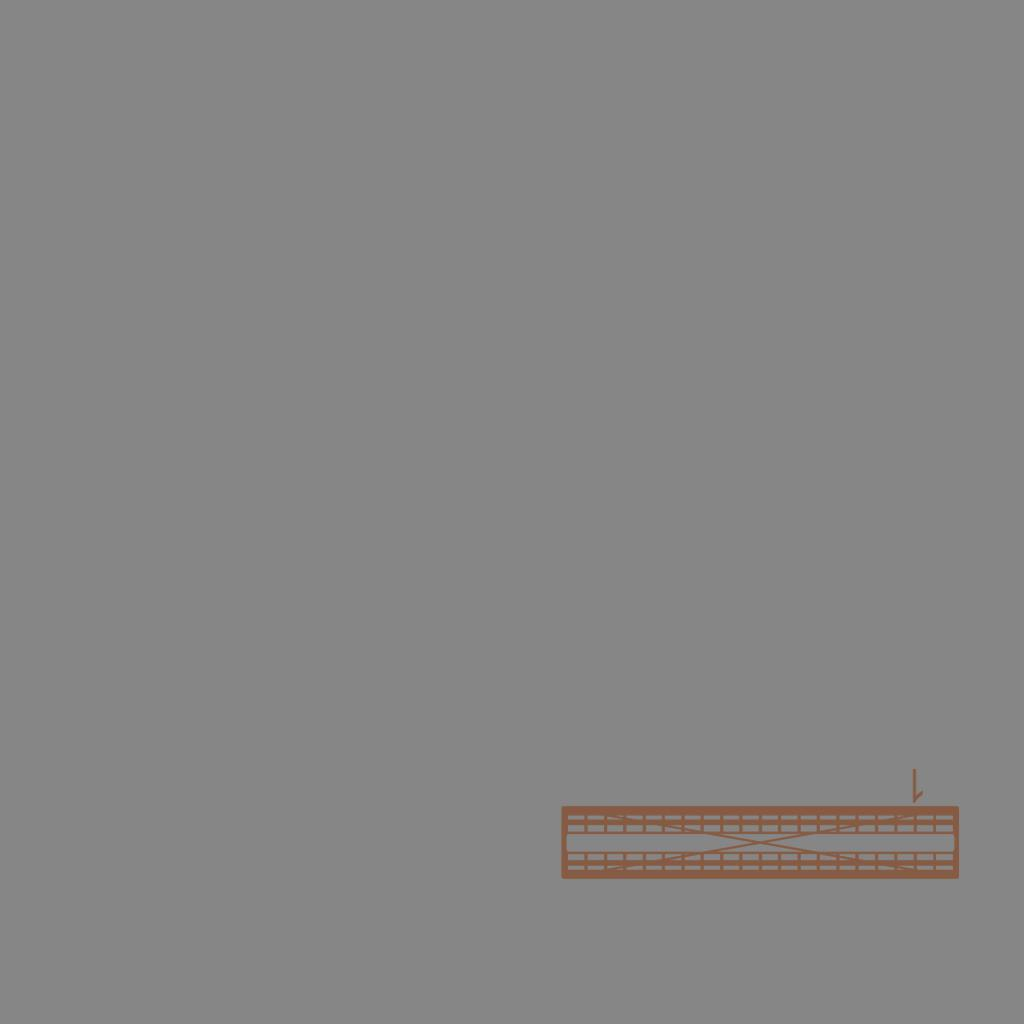Buero_Pendelleuchten_LED: (553, 759, 966, 889)
